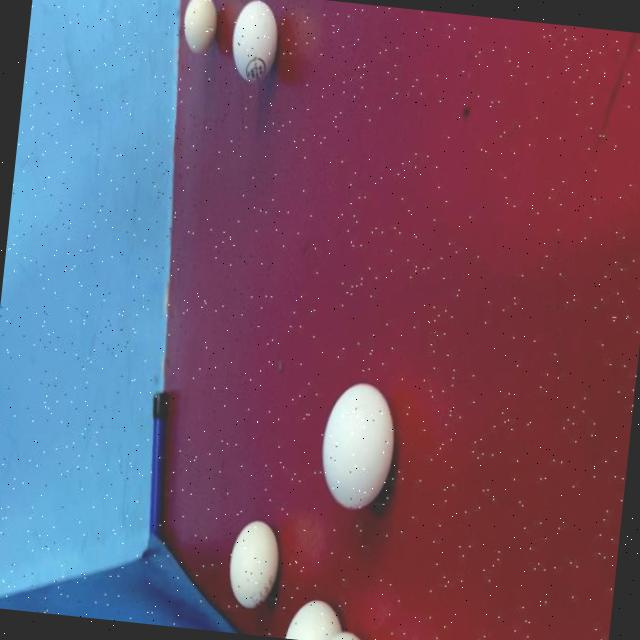ping-pong-ball: (313, 373, 402, 521), (220, 510, 290, 620), (226, 0, 286, 91), (176, 0, 223, 57)
